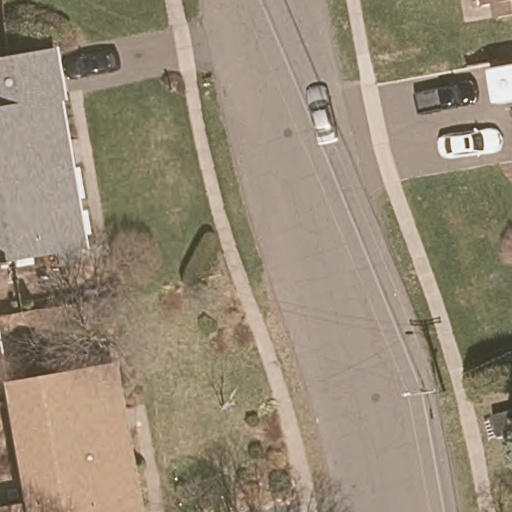DT: (401, 385, 439, 399)
